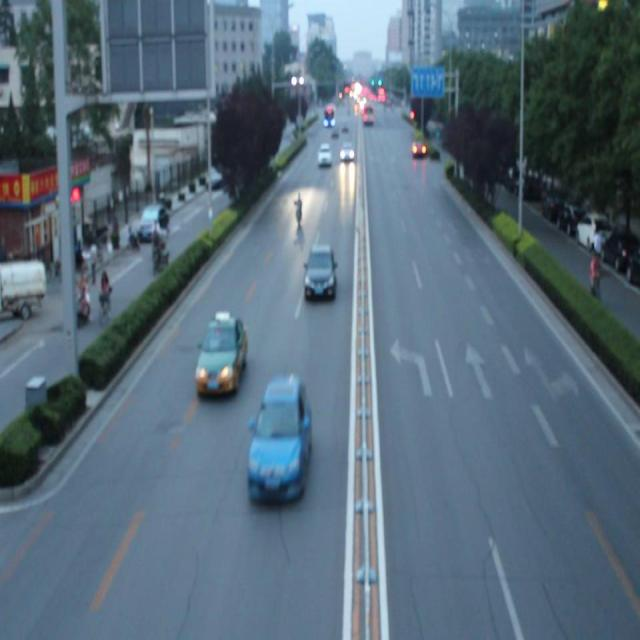car: (246, 374, 311, 507), (196, 314, 246, 392), (304, 244, 338, 302)
